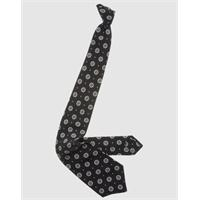tie: (56, 4, 143, 197)
